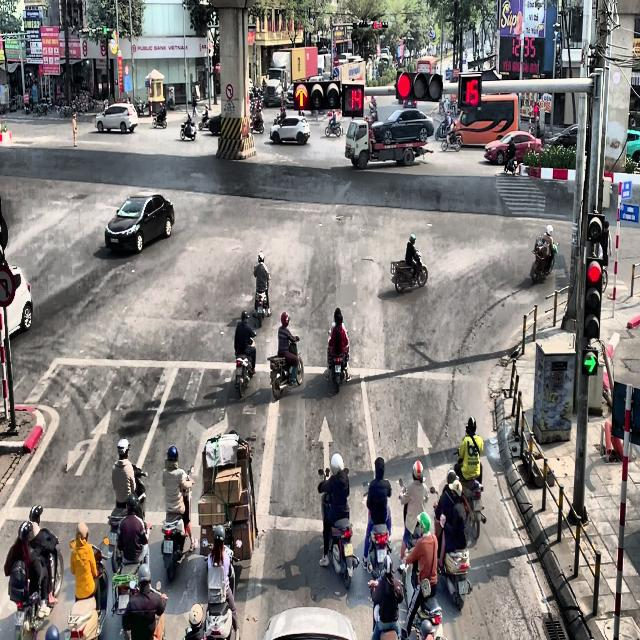CAR: (104, 193, 174, 254), (264, 606, 358, 640), (0, 264, 32, 345), (484, 130, 542, 166), (371, 108, 434, 141), (95, 102, 138, 134), (269, 115, 310, 145)
MOTORBIKE: (44, 539, 110, 639), (6, 527, 63, 639), (429, 486, 473, 610), (317, 468, 359, 590), (160, 466, 195, 581), (111, 522, 152, 618), (397, 558, 445, 640), (106, 464, 148, 556), (362, 479, 393, 578), (453, 449, 486, 538), (268, 336, 304, 399), (390, 250, 428, 293), (234, 334, 256, 398), (530, 236, 559, 282), (326, 330, 350, 385), (253, 274, 271, 326), (441, 122, 462, 152), (435, 114, 454, 140), (325, 110, 342, 137), (180, 114, 197, 140), (152, 103, 168, 128), (250, 108, 264, 134), (504, 150, 517, 175), (198, 111, 210, 130)
TRAFFIC_LIGHT: (583, 255, 603, 339), (395, 70, 443, 102), (458, 73, 482, 108), (342, 83, 364, 116), (582, 349, 598, 376), (373, 20, 388, 29), (102, 24, 107, 34)
